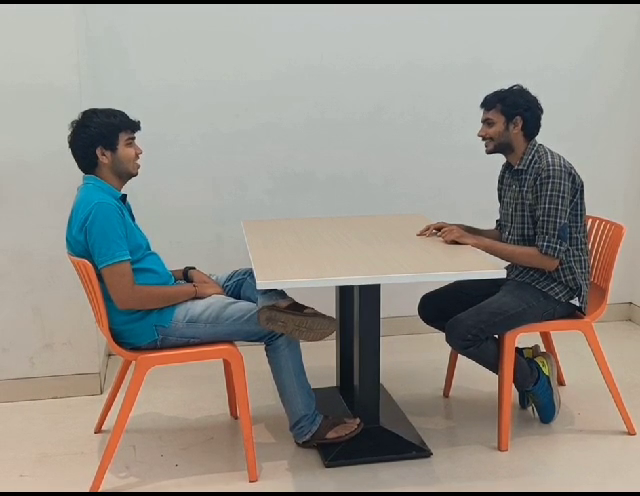person: (66, 104, 147, 185), (474, 81, 555, 162)
